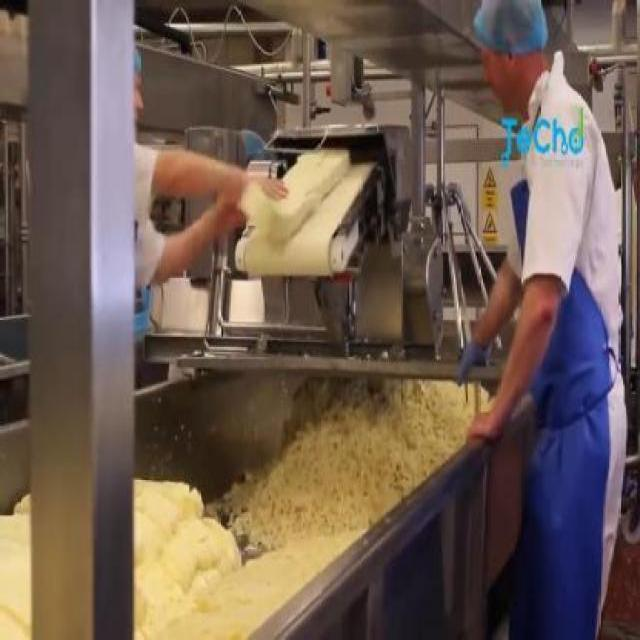bare_hand: (459, 397, 512, 456), (247, 155, 289, 204)
gloved_hand: (452, 318, 492, 394)
